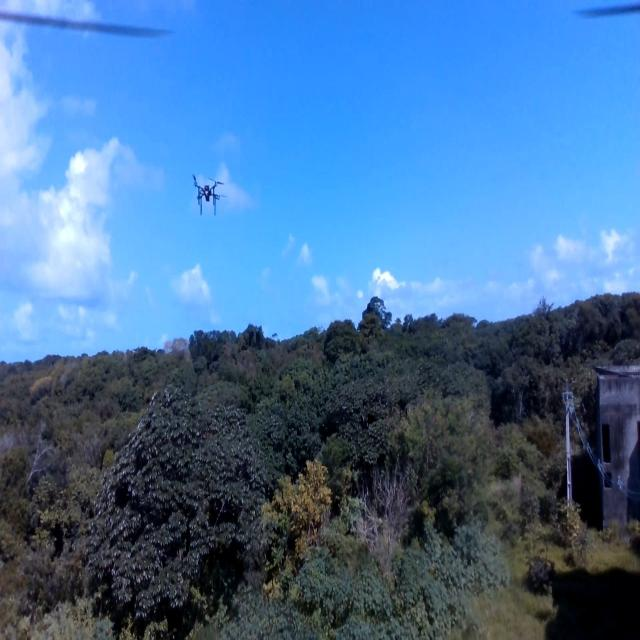-uav-: (183, 164, 231, 230)
